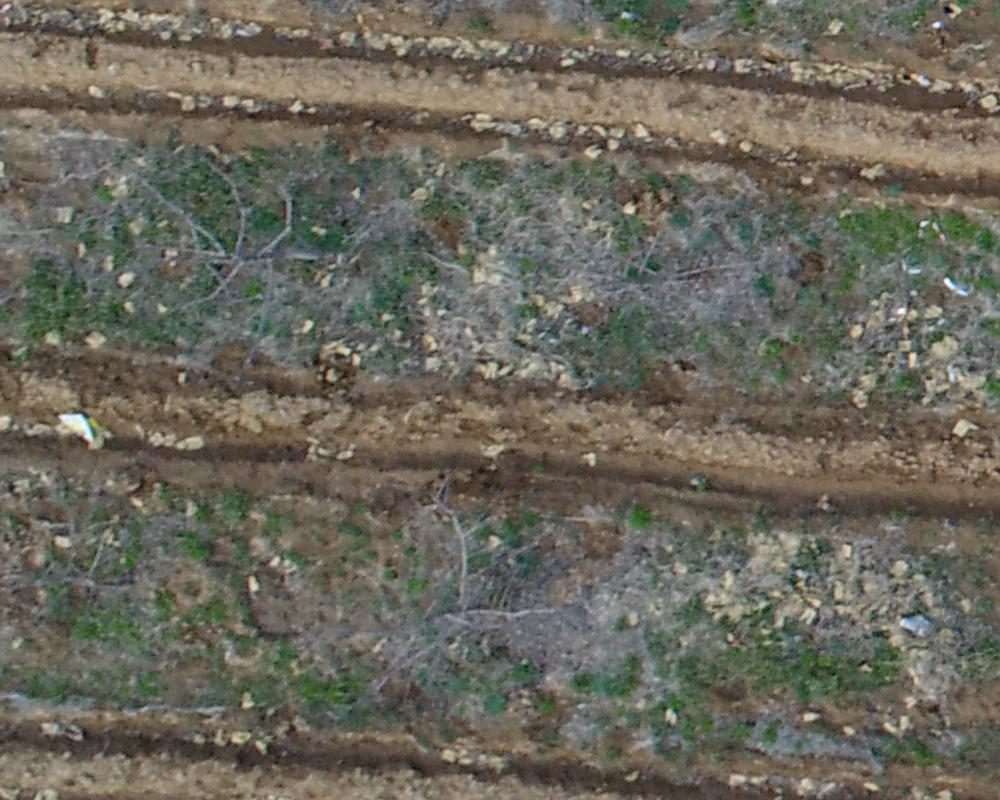apple: (344, 502, 585, 721), (481, 194, 767, 373), (108, 171, 367, 359)
